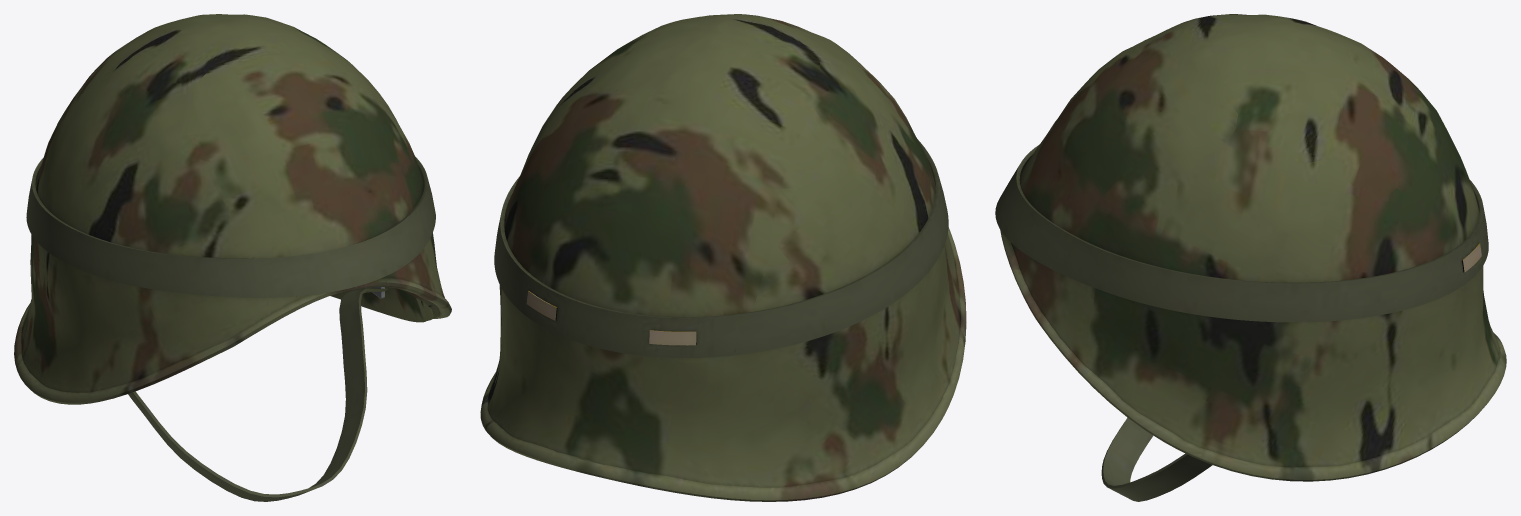
File: helmet_2.glb
The picture shows the model from 3 angles, left to right: view 1: azimuth 30°, elevation 25°; view 2: azimuth 150°, elevation 25°; view 3: azimuth 270°, elevation 25°; orthographic projection. The views are drawn at different scales.
Visible parts, largest first — view 1: body; view 2: body; view 3: body.
Part boxes in pixels (x1,y1,x2,y2): body: (14,14,451,501); body: (480,14,966,501); body: (995,14,1506,501).
Bounding box in the file's own units: 0.2599 × 0.2893 × 0.2924.
Materials: 1 (1 with a texture image).
